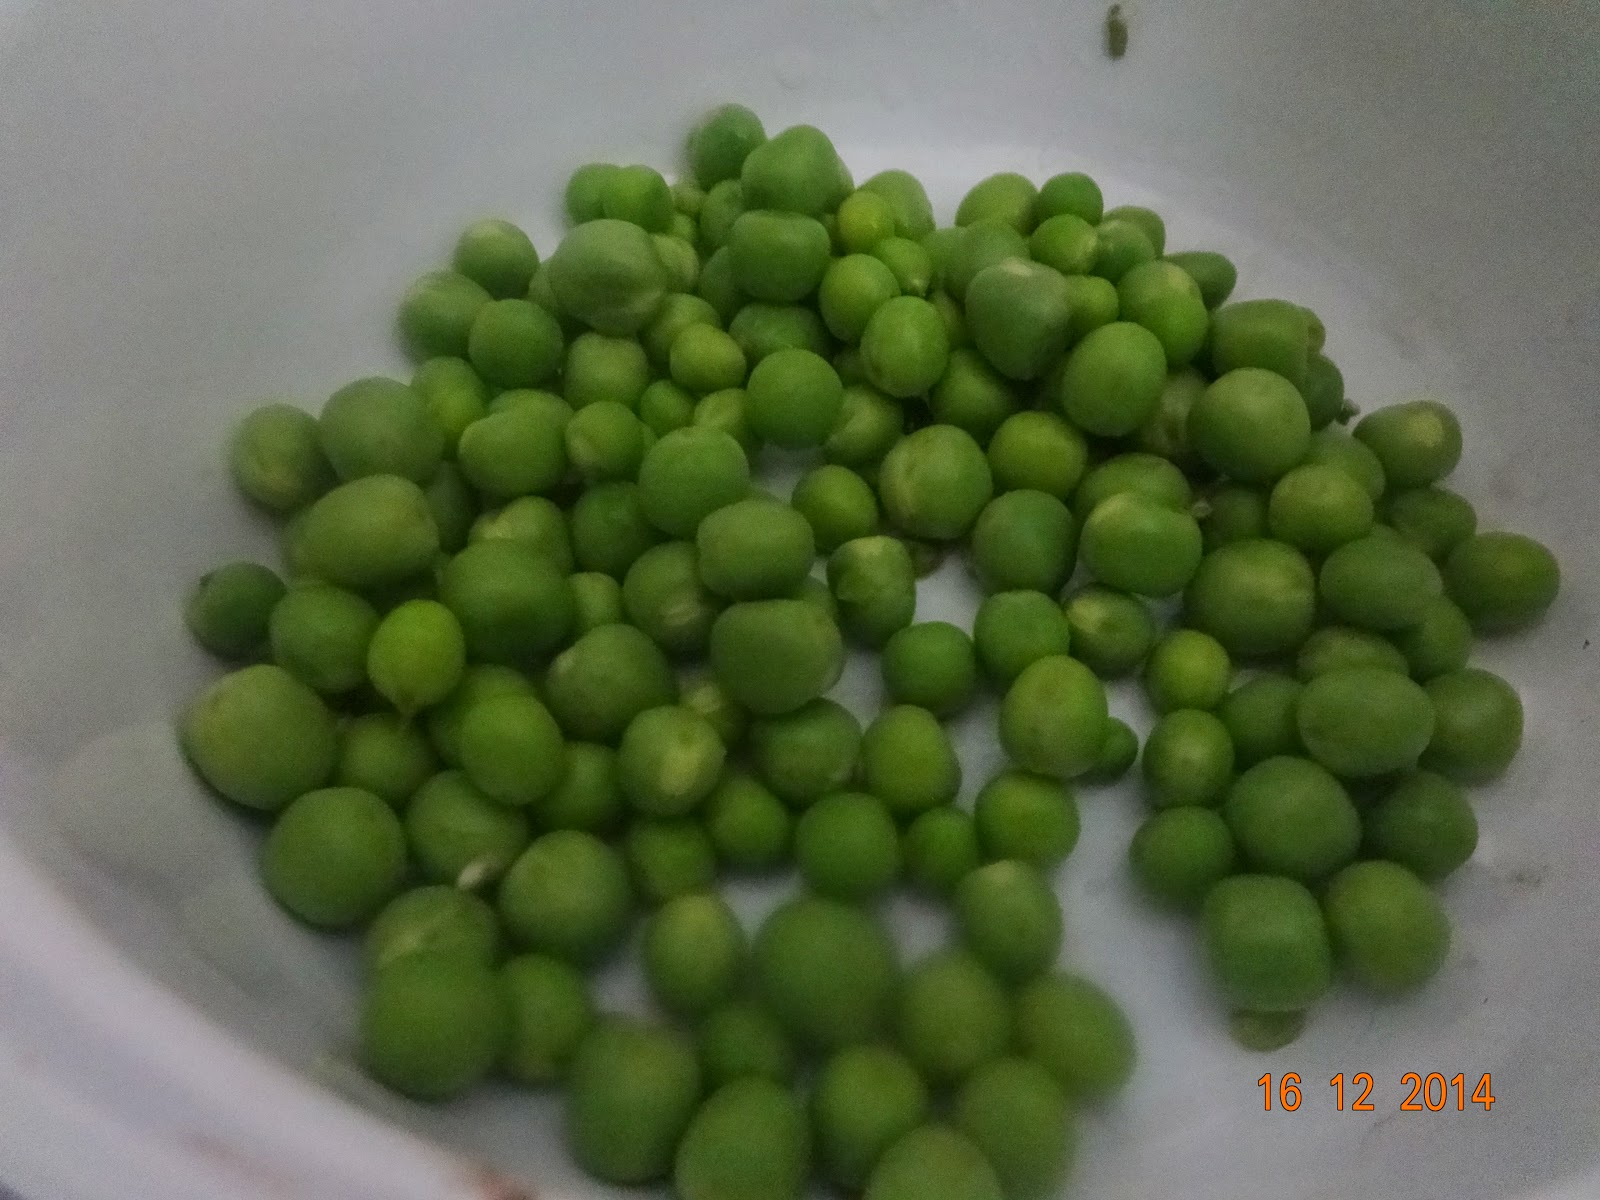boiled peas: (464, 280, 1416, 972)
